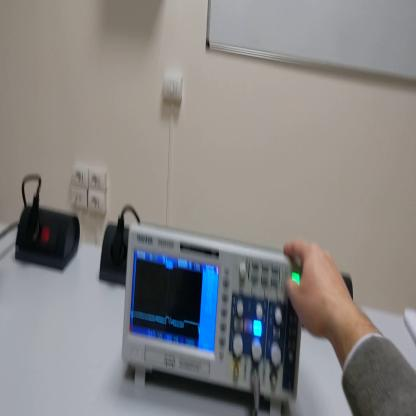hand: (283, 238, 349, 342)
oscilloscope: (122, 224, 303, 415)
socket: (18, 203, 81, 272), (102, 222, 128, 284)
